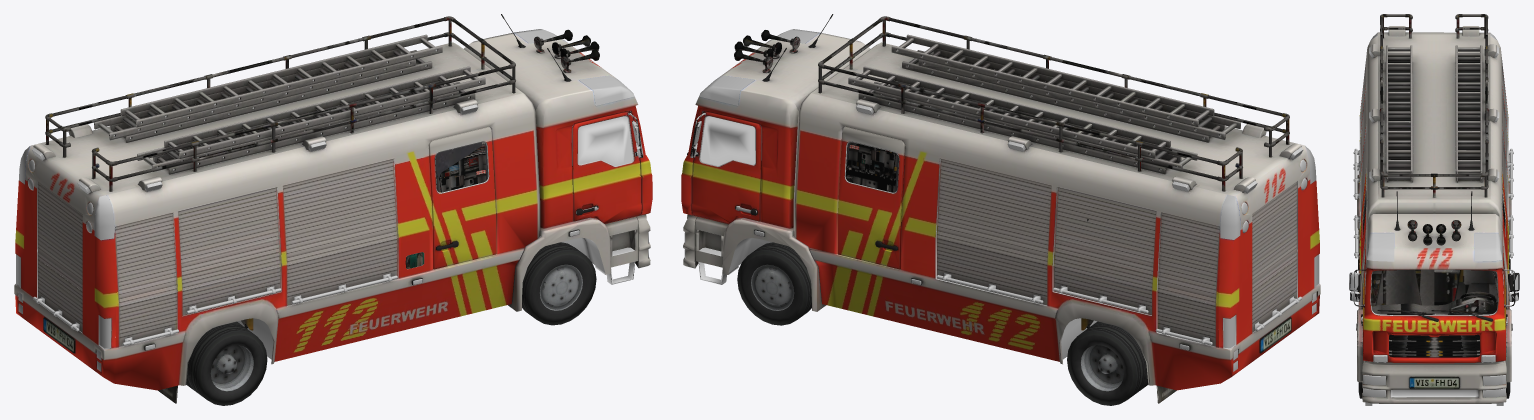
Rendered from size-4-truck-5.glb.
The picture shows the model from 3 angles, left to right: view 1: azimuth 30°, elevation 25°; view 2: azimuth 150°, elevation 25°; view 3: azimuth 270°, elevation 25°; orthographic projection. The views are drawn at different scales.
Visible parts, largest first — view 1: DrawCall_2656, DrawCall_2561, DrawCall_2653, DrawCall_2714, DrawCall_2954; view 2: DrawCall_2656, DrawCall_2561, DrawCall_2653, DrawCall_2714; view 3: DrawCall_2656, DrawCall_2653, DrawCall_2561, DrawCall_2714.
Boxes of the visible parts, x1=… form: DrawCall_2656: x1=14, y1=14, x2=652, y2=403; DrawCall_2561: x1=15, y1=29, x2=648, y2=371; DrawCall_2653: x1=45, y1=16, x2=640, y2=330; DrawCall_2714: x1=186, y1=242, x2=596, y2=405; DrawCall_2954: x1=435, y1=142, x2=488, y2=179; DrawCall_2656: x1=681, y1=14, x2=1320, y2=403; DrawCall_2561: x1=684, y1=29, x2=1319, y2=371; DrawCall_2653: x1=692, y1=16, x2=1289, y2=330; DrawCall_2714: x1=737, y1=242, x2=1148, y2=405; DrawCall_2656: x1=1349, y1=26, x2=1519, y2=403; DrawCall_2653: x1=1359, y1=14, x2=1506, y2=357; DrawCall_2561: x1=1349, y1=33, x2=1518, y2=405; DrawCall_2714: x1=1358, y1=232, x2=1510, y2=398.
Size of the model in its own units: 7.13 by 3.14 by 2.32.
8 materials, 7 textured.
